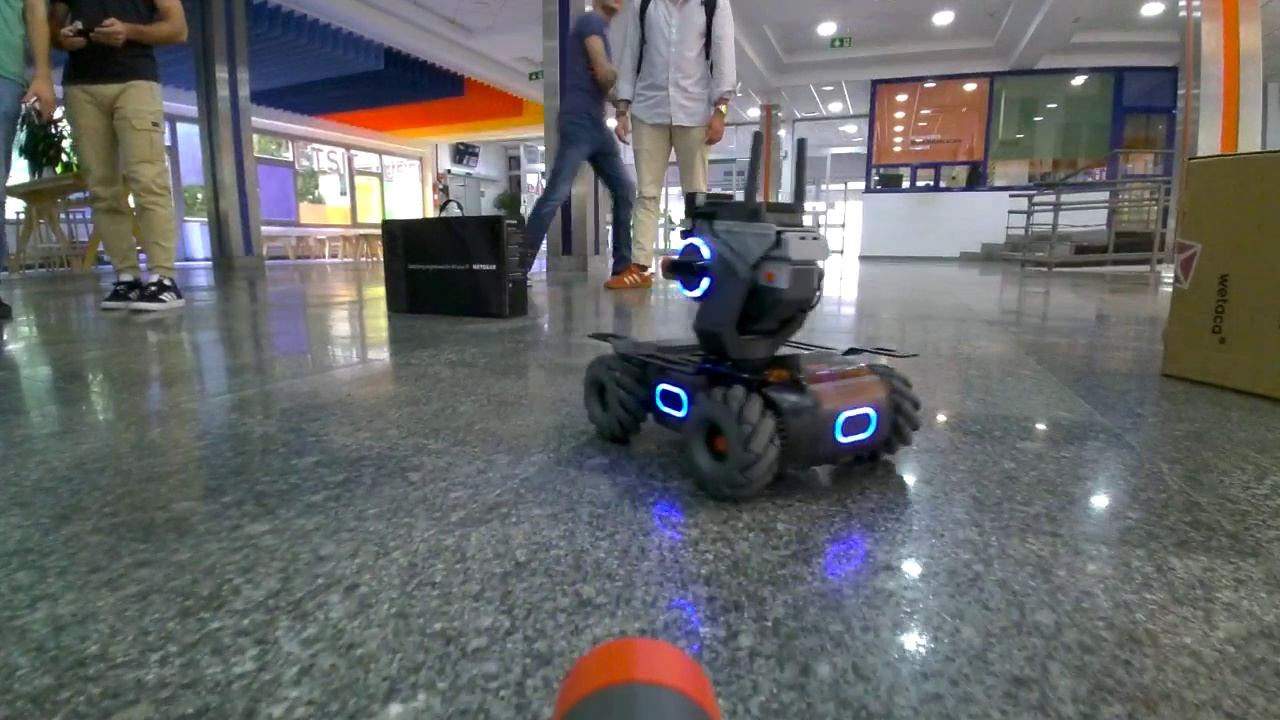robot: (584, 208, 924, 492)
